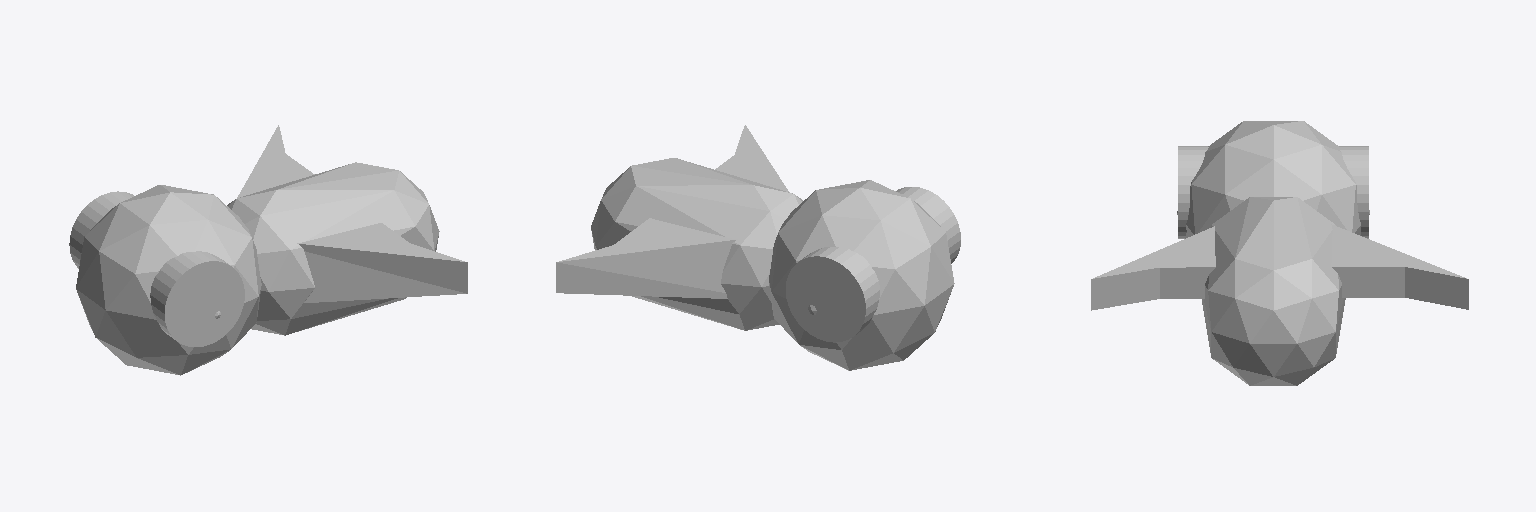
The model's file is Enemy fly.obj.
3 views of the same model, side by side, from view 1: azimuth 30°, elevation 25°; view 2: azimuth 150°, elevation 25°; view 3: azimuth 270°, elevation 25° (orthographic).
Parts seen in each view (by area): view 1: Icosphere_Icosphere.004, Icosphere.001_Icosphere.005, Cube, Cylinder; view 2: Icosphere_Icosphere.004, Icosphere.001_Icosphere.005, Cube, Cylinder; view 3: Icosphere.001_Icosphere.005, Icosphere_Icosphere.004, Cube, Cylinder.
Part boxes in pixels (x1,y1,x2,y2): Icosphere_Icosphere.004: (76,185,261,375); Icosphere.001_Icosphere.005: (227,162,439,335); Cube: (237,125,467,302); Cylinder: (69,191,244,346); Icosphere_Icosphere.004: (769,180,954,370); Icosphere.001_Icosphere.005: (591,158,802,330); Cube: (556,125,789,298); Cylinder: (786,187,960,342); Icosphere.001_Icosphere.005: (1202,197,1345,385); Icosphere_Icosphere.004: (1177,121,1369,238); Cube: (1091,224,1468,310); Cylinder: (1178,146,1368,238).
Bounding box in the file's own units: 5.06 × 2.51 × 4.91.